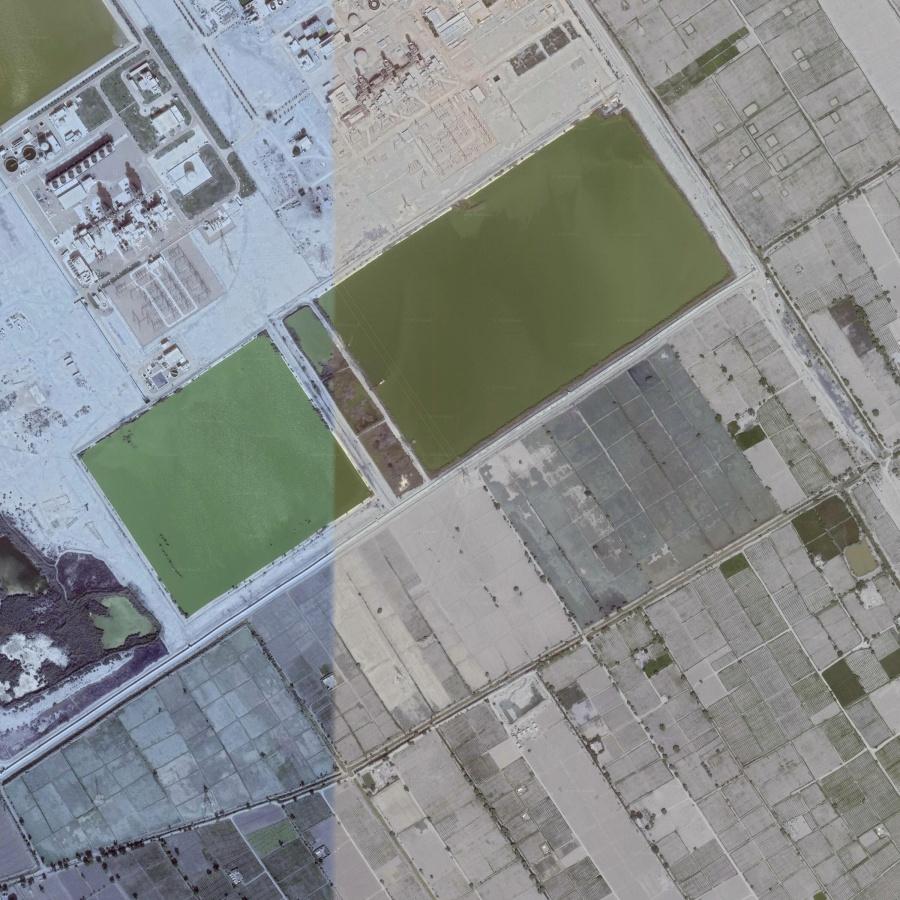PowerPlant: (1, 58, 243, 379)
